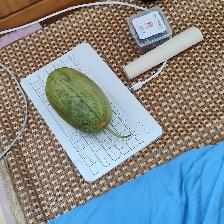gua: (42, 69, 109, 127)
